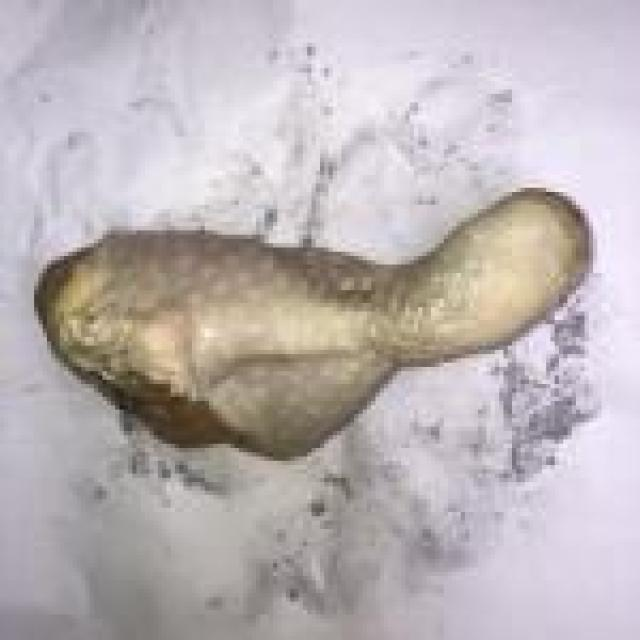leg: (27, 177, 603, 460)
